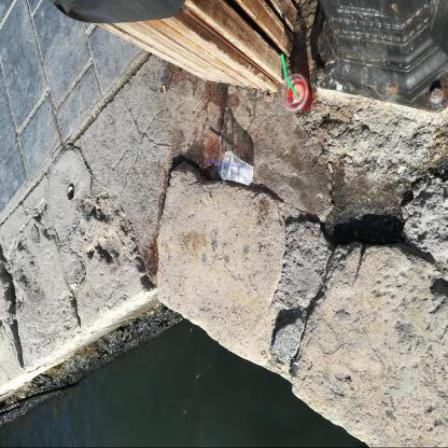Cigarette: (164, 86, 168, 96), (54, 110, 58, 117), (270, 92, 278, 94)
Cup: (218, 151, 254, 186), (282, 75, 314, 114)
Lid: (282, 75, 310, 114), (219, 152, 231, 182)
Straw: (282, 55, 300, 100), (207, 160, 249, 170)
